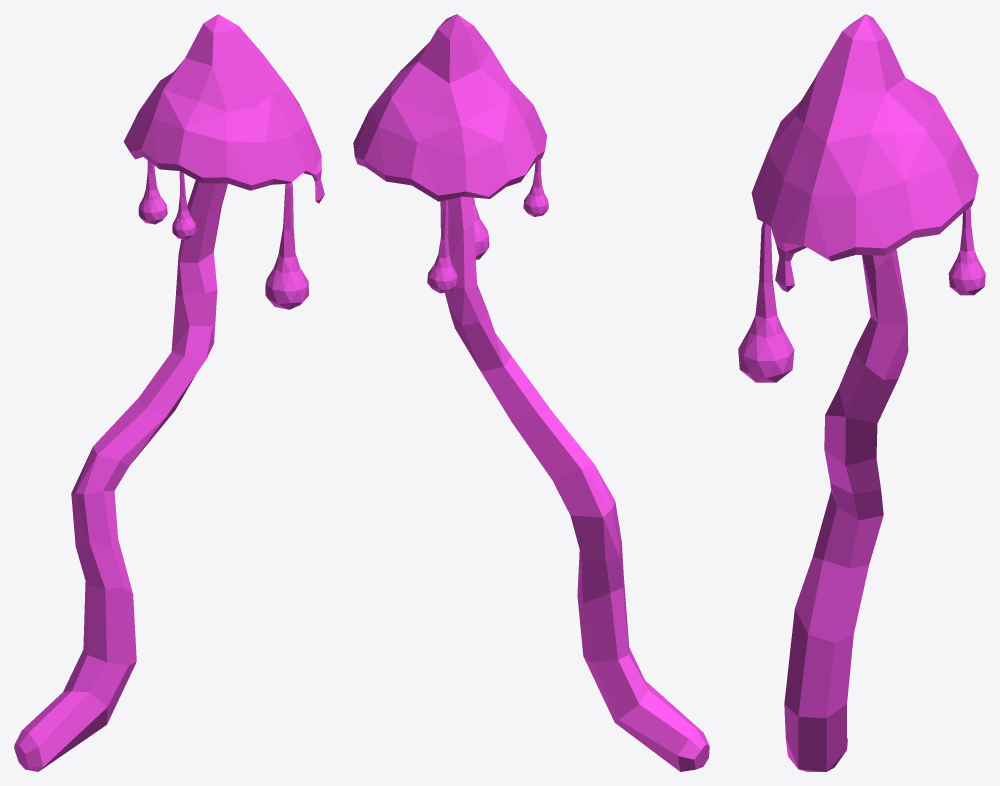
The model's file is SM_Mushroom_Drip_Giant_Single_A_Colour_Fantasy.fbx.
3 views of the same model, side by side, from view 1: azimuth 30°, elevation 25°; view 2: azimuth 150°, elevation 25°; view 3: azimuth 270°, elevation 25° (orthographic). The views are drawn at different scales.
Parts seen in each view (by area): view 1: SM_Mushroom_Drip_Giant_Single_A_Colour_Fantasy; view 2: SM_Mushroom_Drip_Giant_Single_A_Colour_Fantasy; view 3: SM_Mushroom_Drip_Giant_Single_A_Colour_Fantasy.
Boxes of the visible parts, x1,y1,x2,y2 form: SM_Mushroom_Drip_Giant_Single_A_Colour_Fantasy: [14, 14, 324, 771]; SM_Mushroom_Drip_Giant_Single_A_Colour_Fantasy: [353, 14, 709, 771]; SM_Mushroom_Drip_Giant_Single_A_Colour_Fantasy: [738, 14, 985, 771].
Size of the model in its own units: 2.21 by 4.73 by 1.2.
